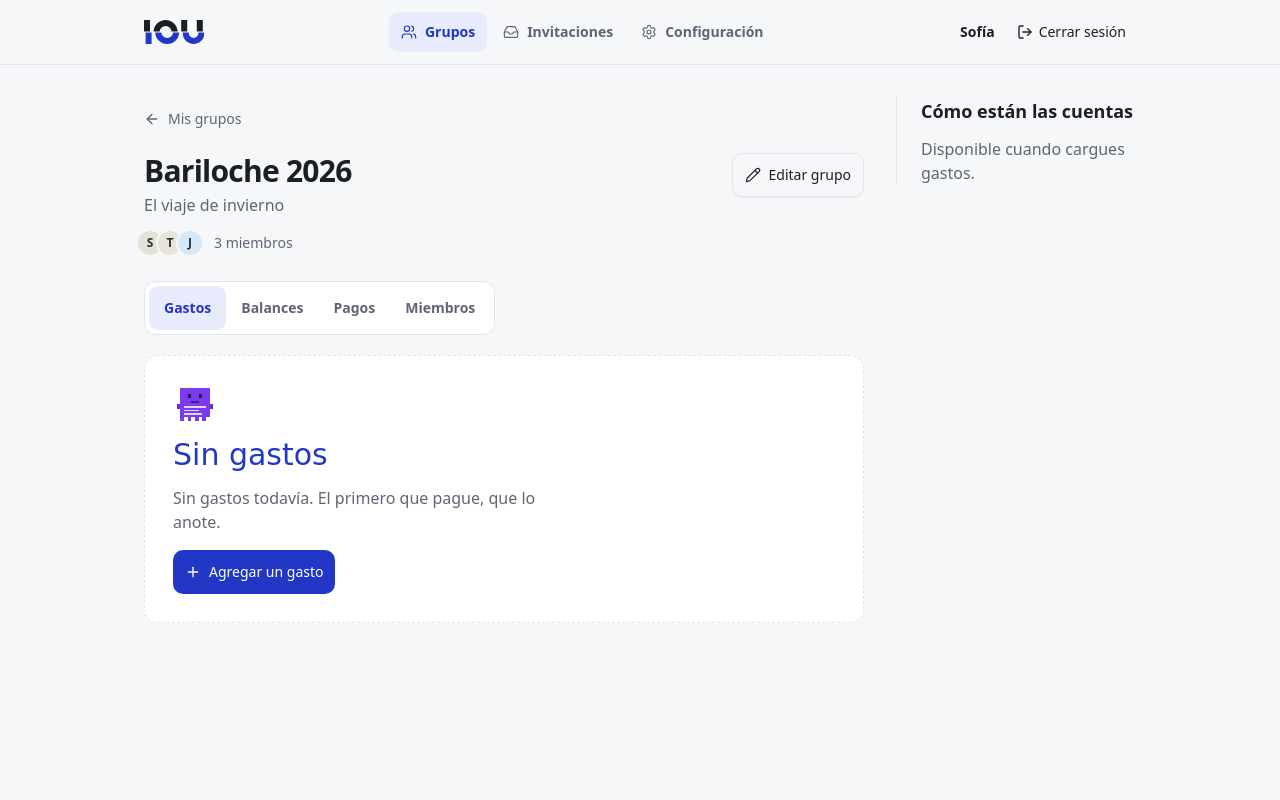
Scenario: Editar grupo › si la API rechaza la edición, el mensaje queda en el diálogo
Click the button "Editar grupo".
click(798, 175)  # box x1=732 y1=153 x2=864 y2=197
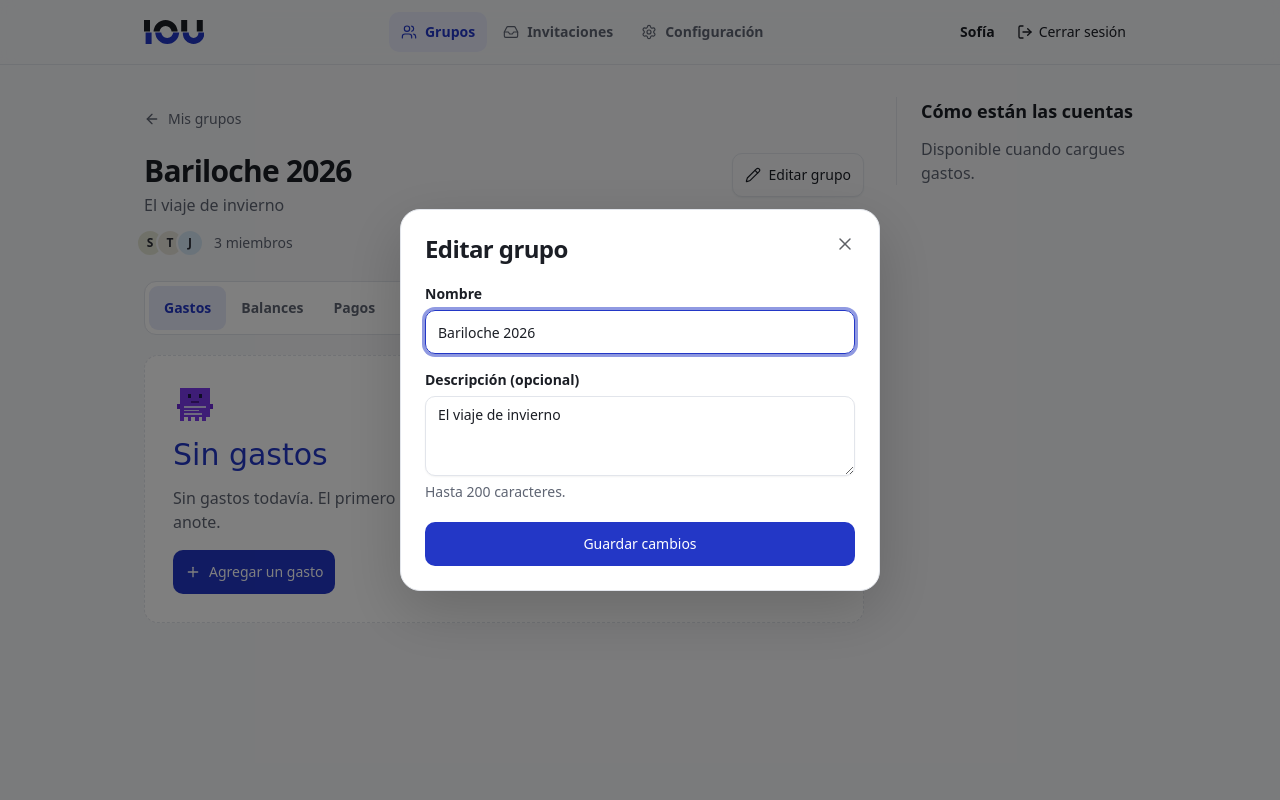
Click the button "Guardar cambios".
click(640, 544)  # box x1=425 y1=522 x2=855 y2=566
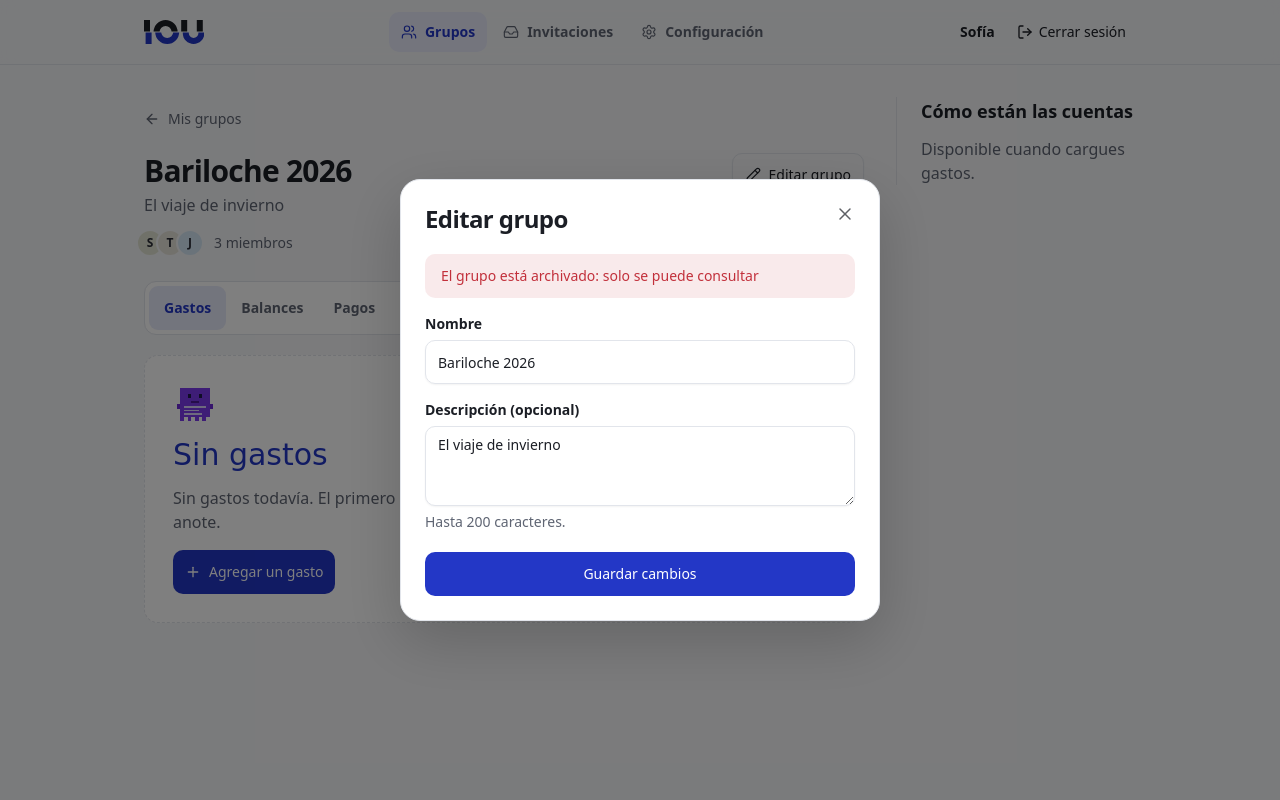
Expected: the message reads "El grupo está archivado: solo se puede consultar", x1=441 y1=266 x2=759 y2=285
